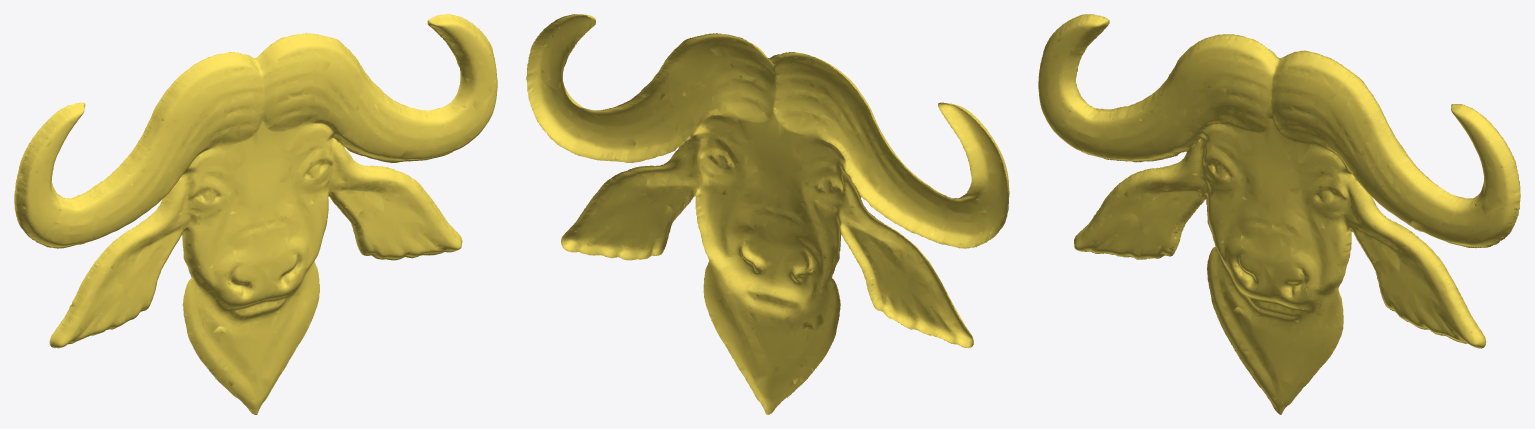
Rendered from card-222.glb.
3 renders of one model, left to right at view 1: azimuth 30°, elevation 25°; view 2: azimuth 150°, elevation 25°; view 3: azimuth 330°, elevation 25°, orthographic.
Parts seen in each view (by area): view 1: geometry_0; view 2: geometry_0; view 3: geometry_0.
Boxes of the visible parts, bbox=[...] form: geometry_0: bbox=[14, 14, 497, 414]; geometry_0: bbox=[526, 14, 1009, 414]; geometry_0: bbox=[1038, 14, 1520, 414].
Bounding box in the file's own units: 0.4766 × 0.35 × 0.019.
